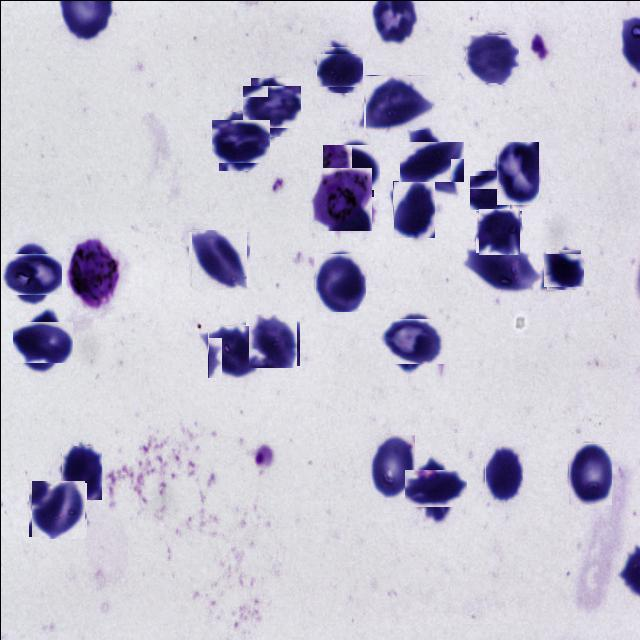gametocyte: (308, 168, 371, 232), (64, 238, 120, 310)
red blood cell: (364, 74, 432, 129), (190, 230, 248, 288), (29, 481, 85, 537), (384, 313, 439, 369), (468, 248, 538, 291), (314, 252, 365, 311), (404, 134, 457, 187), (370, 434, 414, 497), (567, 442, 611, 504), (4, 248, 56, 300), (207, 324, 258, 377), (246, 315, 298, 366), (496, 141, 538, 204), (466, 32, 517, 83), (214, 115, 265, 166), (324, 142, 376, 192), (17, 316, 68, 366), (246, 82, 296, 132), (410, 462, 460, 512), (392, 180, 434, 237), (61, 445, 101, 499), (484, 445, 522, 501), (476, 209, 520, 253), (319, 49, 359, 89), (472, 172, 512, 212), (544, 250, 582, 288)
